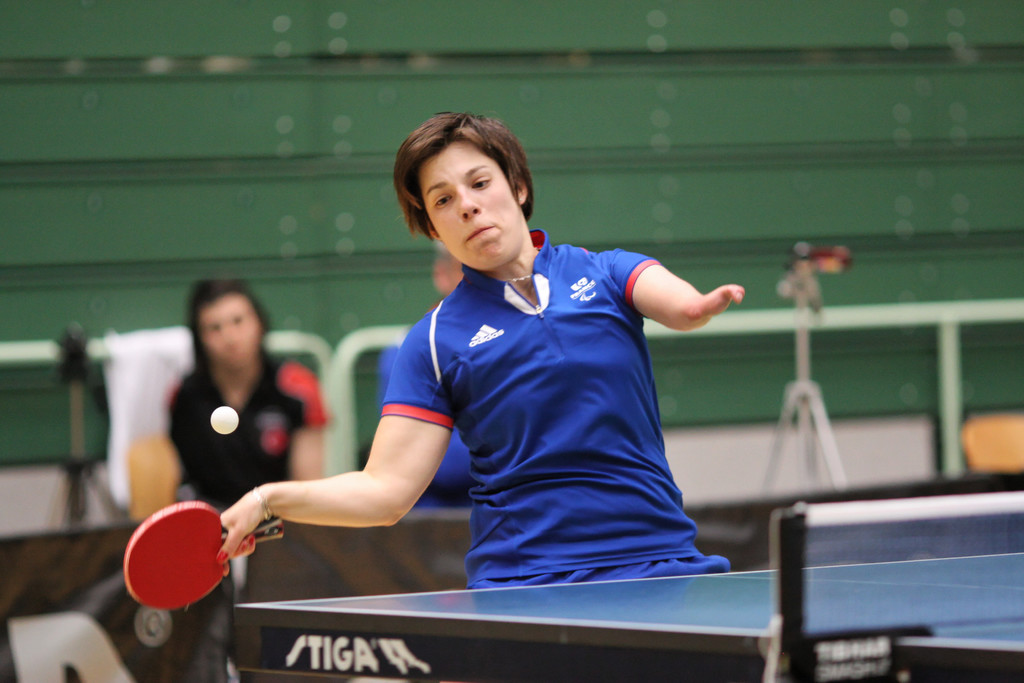Person: (165, 275, 333, 511)
